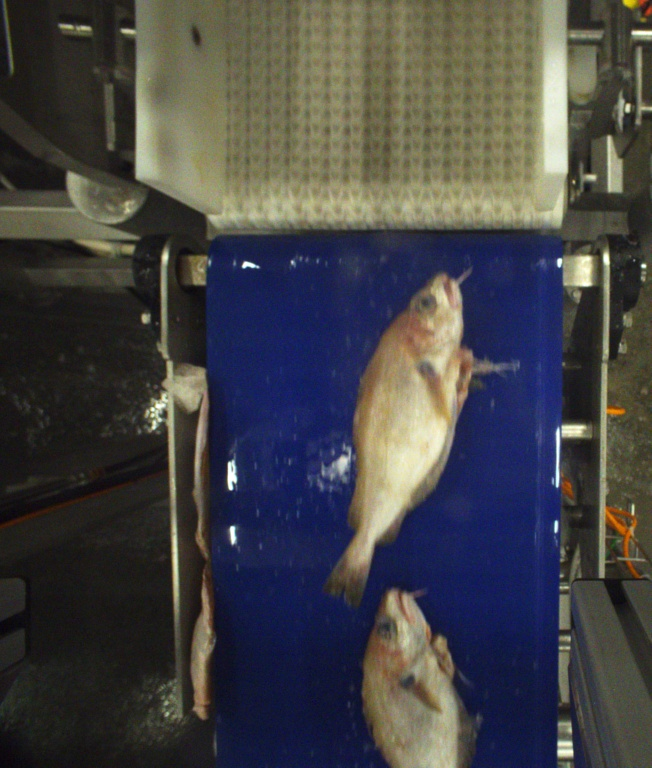BIB: (361, 586, 481, 768)
